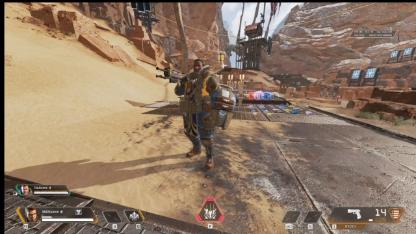Target: (176, 58, 226, 166)
